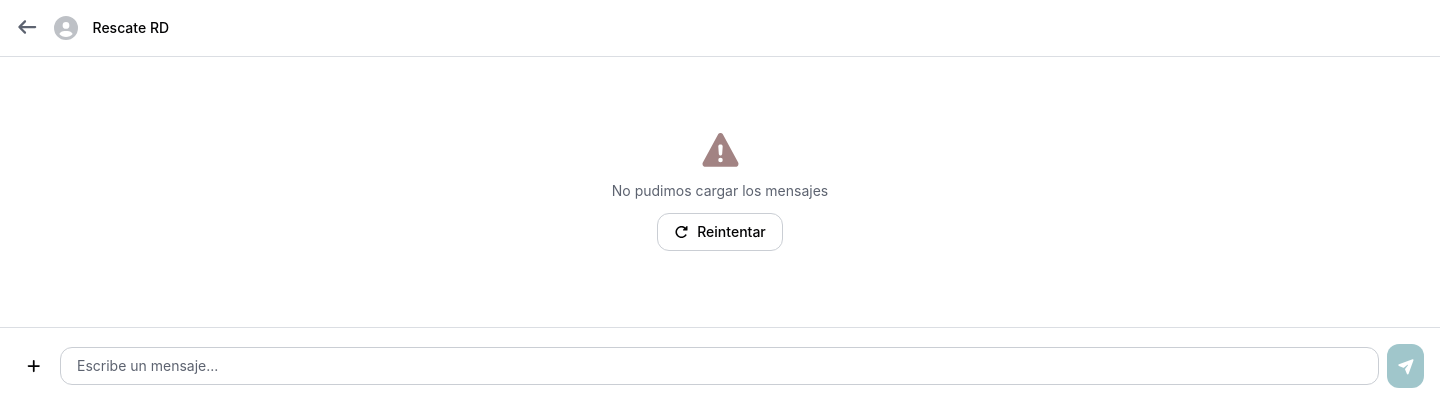
it: ChatMessageThread › retries the fetch and renders the messages when retry succeeds
Click the button "Reintentar": (720, 232) [657,213,783,251]
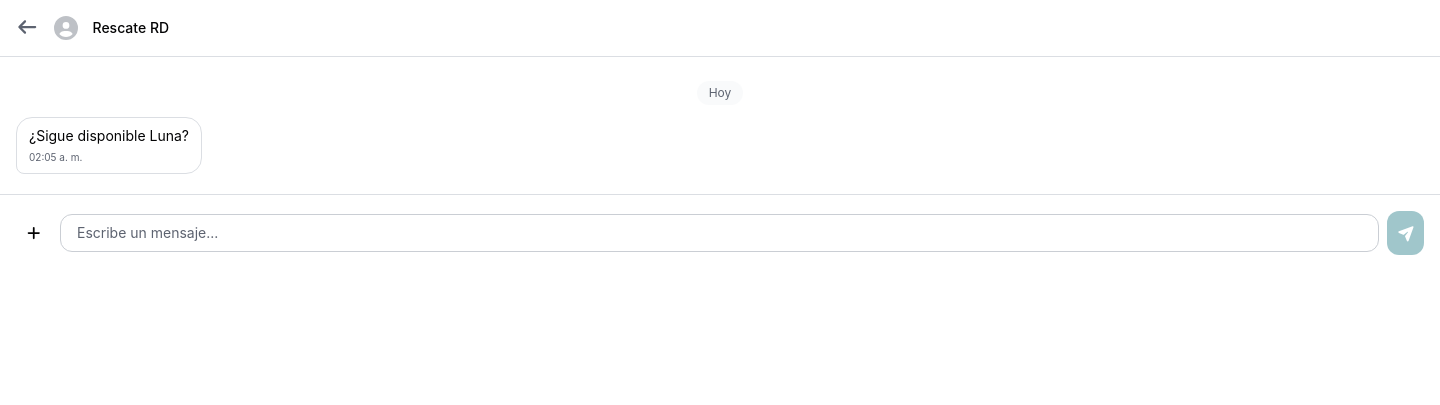
Expected: the text "¿Sigue disponible Luna?" is shown, [29,126,189,146]
Expected: the message "No pudimos cargar los mensajes Reintentar" is gone
